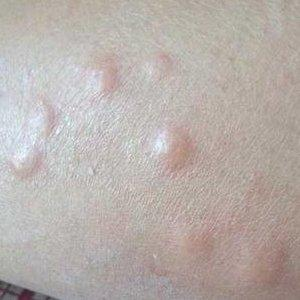Fleas: (152, 206, 292, 300), (140, 117, 208, 188), (9, 96, 61, 181), (94, 51, 132, 93), (143, 50, 178, 85)
